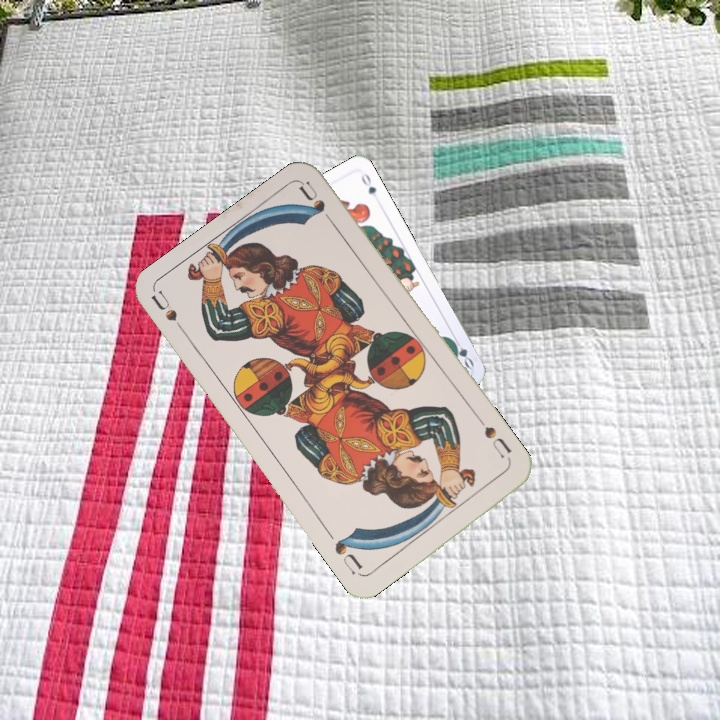GO: (447, 333, 477, 371)
SU: (148, 288, 192, 341), (480, 422, 514, 461)
